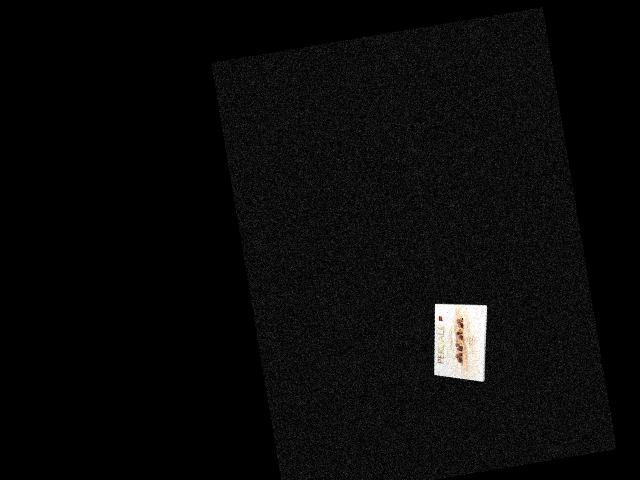chocolate: (424, 298, 501, 385)
